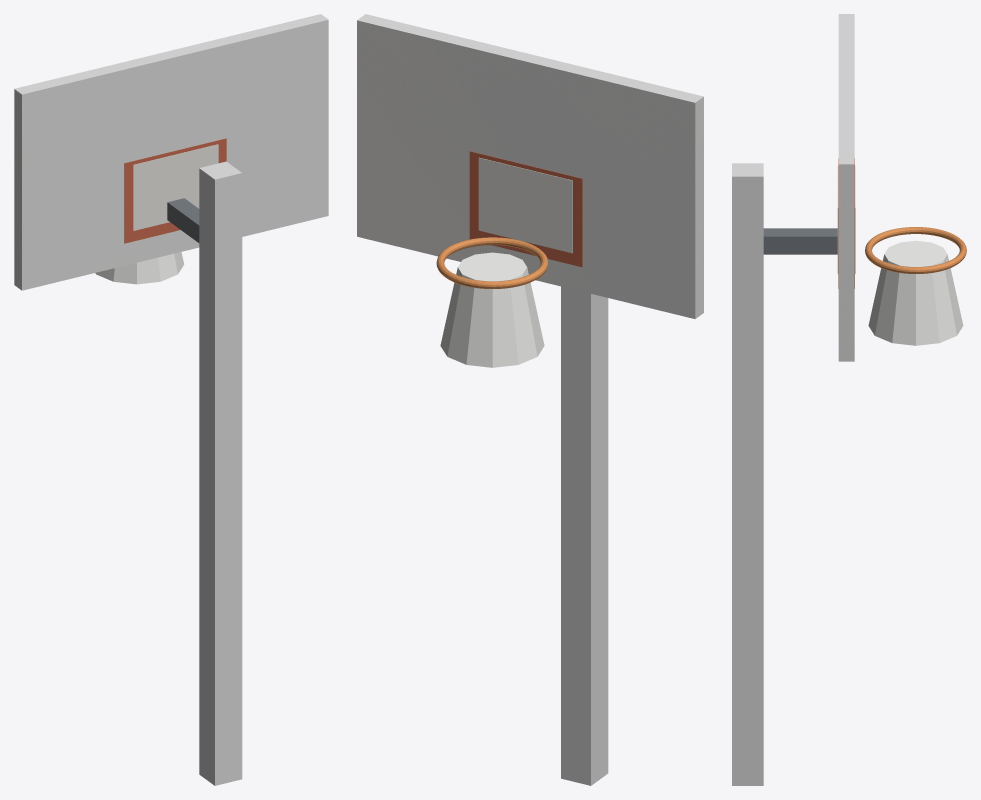
File: basketball_hoop.glb
3 renders of one model, left to right at view 1: azimuth 30°, elevation 25°; view 2: azimuth 150°, elevation 25°; view 3: azimuth 270°, elevation 25°, orthographic. The views are drawn at different scales.
Visible parts, largest first — view 1: COL_Board, COL_Post, Hoop; view 2: Hoop, COL_Board, COL_Post; view 3: COL_Post, Hoop, COL_Board.
Boxes of the visible parts, box(x1,y1,x2,y2) form: COL_Board: box(14, 14, 328, 290); COL_Post: box(199, 161, 242, 785); Hoop: box(14, 24, 328, 289); Hoop: box(357, 20, 703, 367); COL_Board: box(357, 14, 703, 318); COL_Post: box(561, 286, 608, 785); COL_Post: box(732, 163, 763, 785); Hoop: box(763, 158, 966, 360); COL_Board: box(838, 14, 854, 361).
Bounding box in the file's own units: 1.8 × 3.85 × 1.19.
